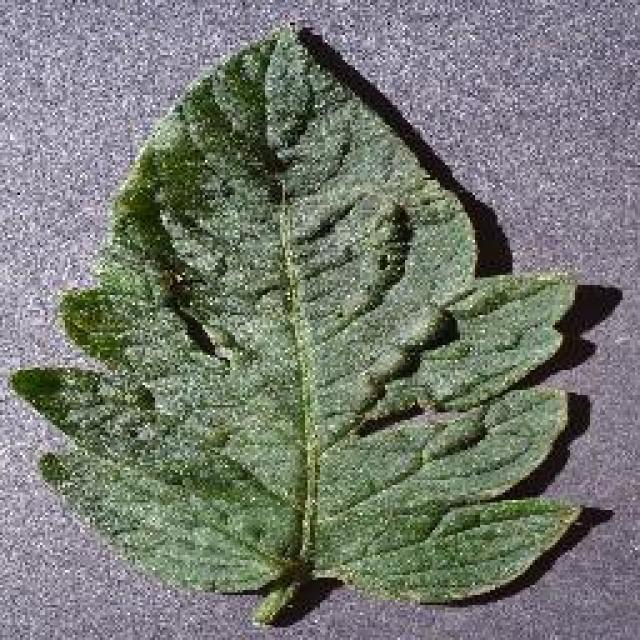Tomato___healthy: (7, 17, 597, 626)
